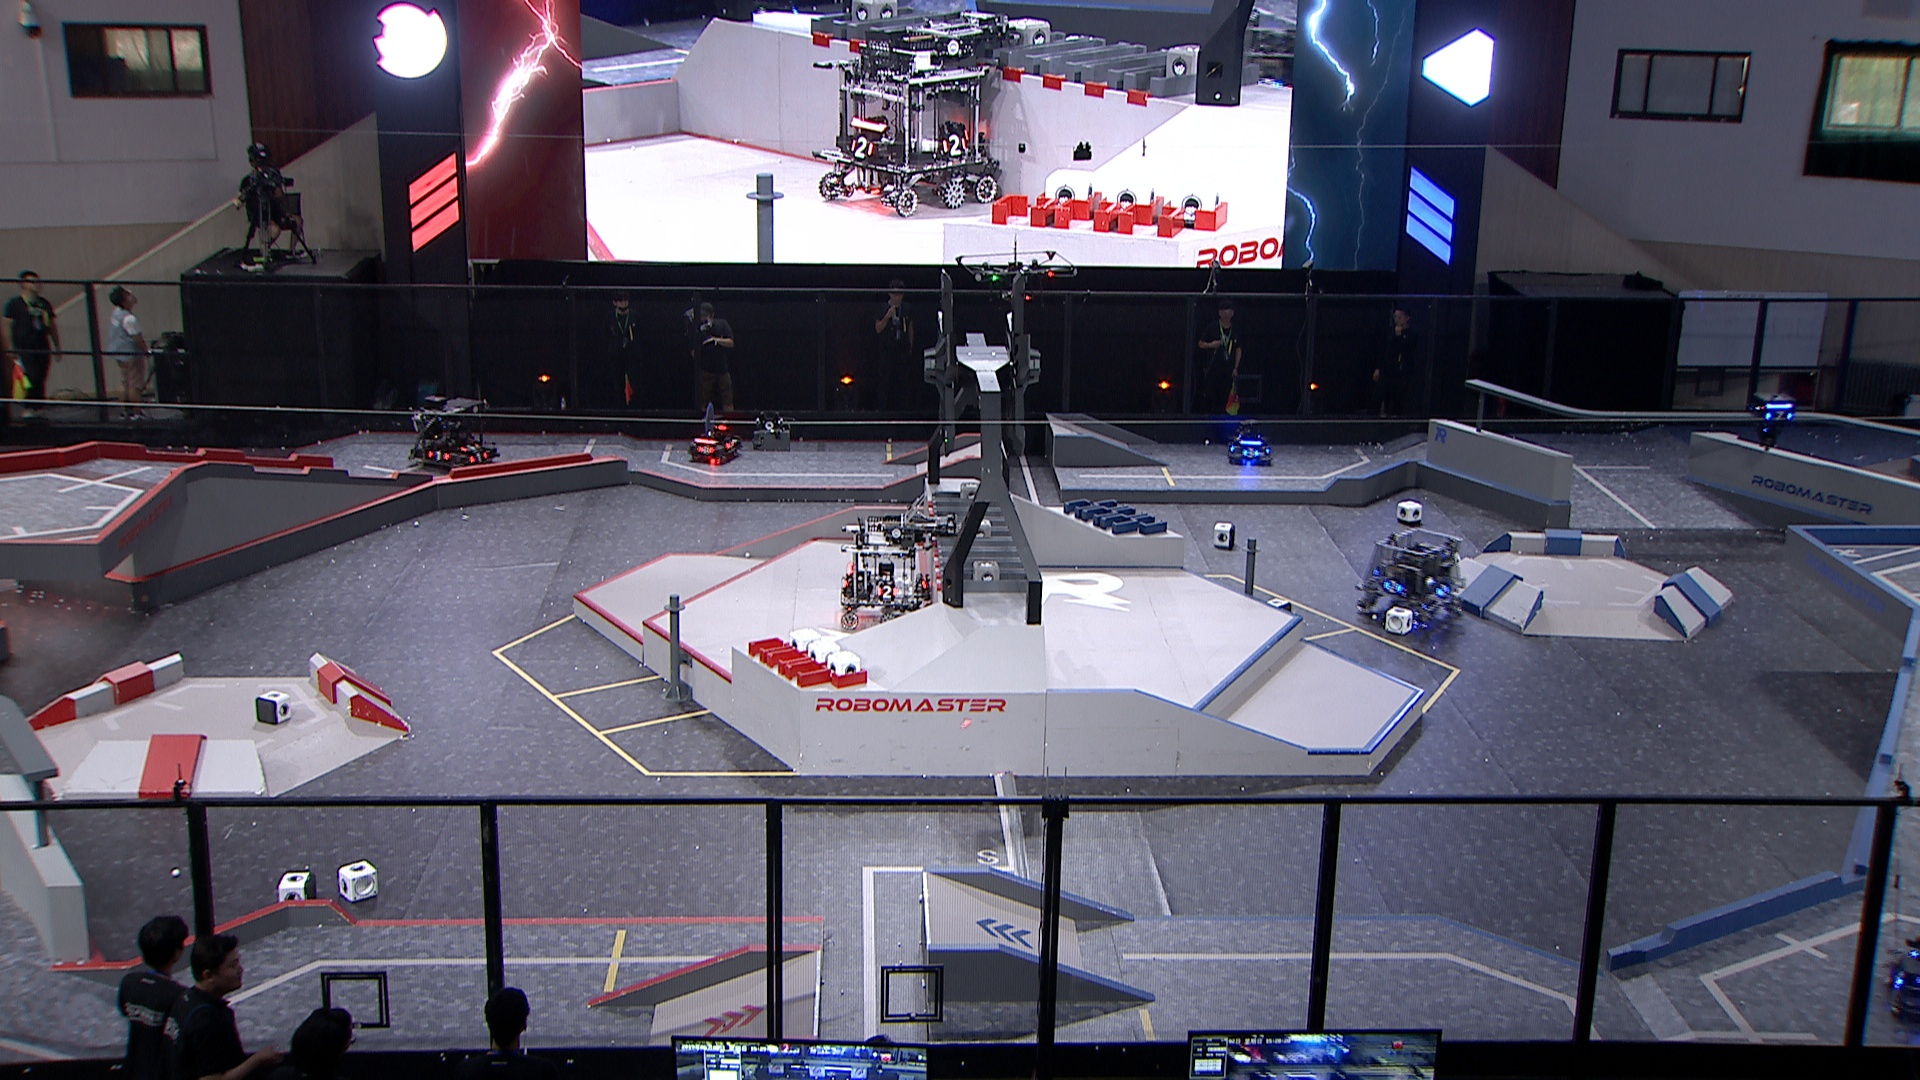armor: (1760, 406, 1793, 427), (423, 446, 452, 463), (458, 439, 487, 456), (876, 583, 901, 603), (465, 447, 491, 465), (1433, 579, 1453, 600), (1382, 576, 1404, 595), (695, 442, 716, 458), (1242, 446, 1259, 458)
car: (1353, 529, 1468, 638), (839, 516, 942, 629), (409, 392, 498, 469), (1882, 924, 1920, 1026), (684, 419, 745, 465), (1224, 419, 1276, 465)
ignore: (818, 15, 997, 214)
watcher: (1747, 386, 1799, 454)
